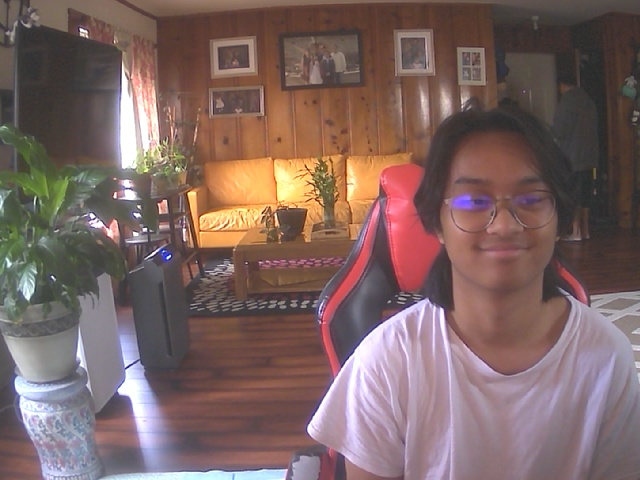happy: (432, 113, 568, 293)
